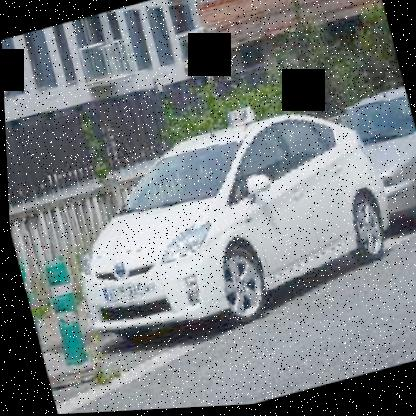not_emergency: (40, 80, 415, 372)
